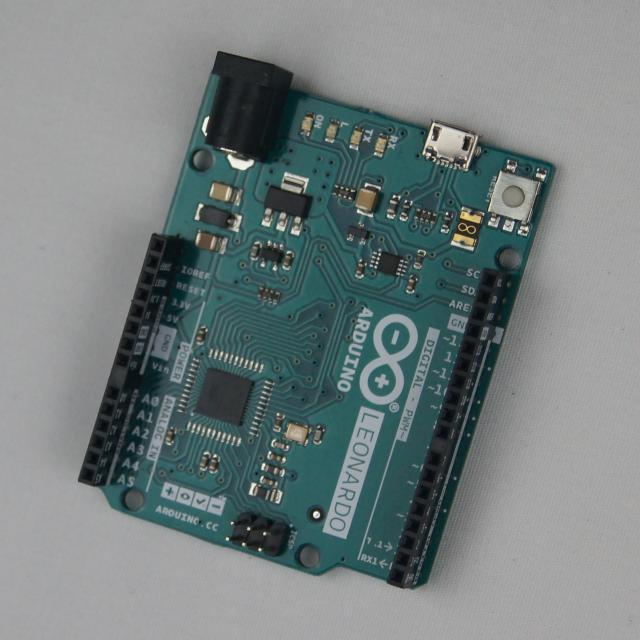Arduino-leonardo: (80, 53, 555, 588)
